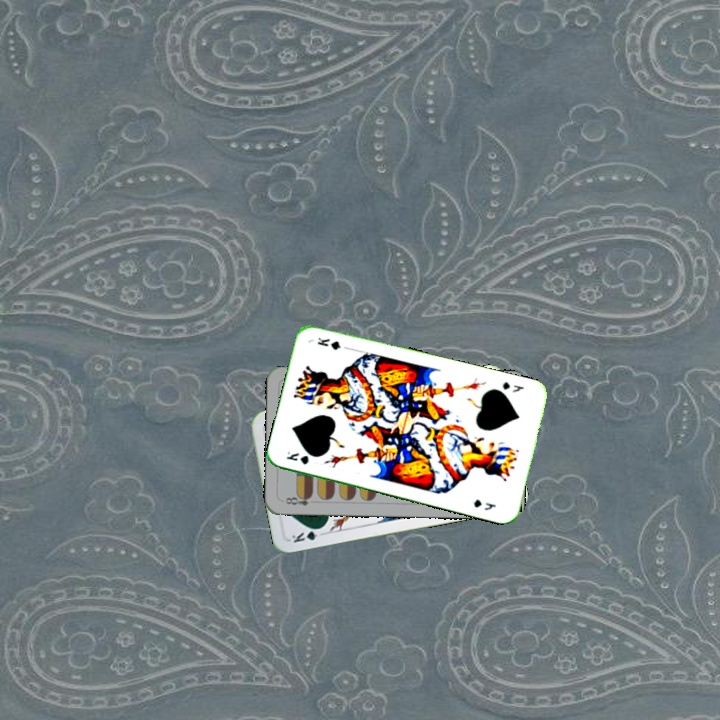E8: (281, 491, 314, 508)
GK: (288, 524, 327, 545), (282, 447, 311, 467), (498, 377, 526, 395)
